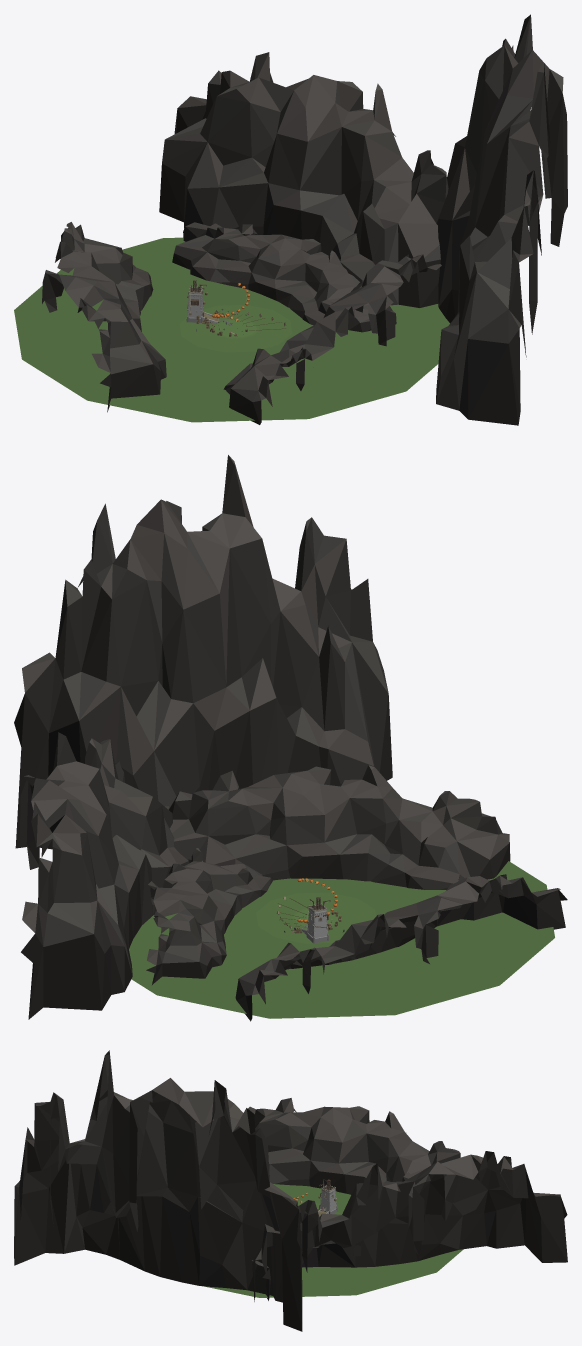
Rendered from narrowLoadingMap.glb.
The picture shows the model from 3 angles, top to bottom: view 1: azimuth 30°, elevation 25°; view 2: azimuth 150°, elevation 25°; view 3: azimuth 270°, elevation 25°; orthographic projection. The views are drawn at different scales.
Parts seen in each view (by area): view 1: mountains_.002, mountains_.003, Cylinder, mountains_.005, mountains_.001, mountains_.004; view 2: mountains_.003, Cylinder, mountains_.002, mountains_.004, mountains_.005, mountains_.001; view 3: mountains_.003, mountains_.002, mountains_.005, Cylinder.
Boxes of the visible parts, <box> form: mountains_.002: <box>159,52,448,307</box>; mountains_.003: <box>436,14,567,425</box>; Cylinder: <box>14,237,449,422</box>; mountains_.005: <box>42,222,166,412</box>; mountains_.001: <box>172,222,396,332</box>; mountains_.004: <box>223,254,441,424</box>; mountains_.003: <box>14,455,392,848</box>; Cylinder: <box>129,861,554,1018</box>; mountains_.002: <box>19,732,189,1019</box>; mountains_.004: <box>165,765,510,889</box>; mountains_.005: <box>235,874,567,1021</box>; mountains_.001: <box>146,848,272,984</box>; mountains_.003: <box>14,1050,302,1331</box>; mountains_.002: <box>252,1151,567,1301</box>; mountains_.005: <box>248,1098,460,1194</box>; Cylinder: <box>204,1184,463,1297</box>.
Size of what is drawn, in the model's own units: 309 by 190 by 379.
